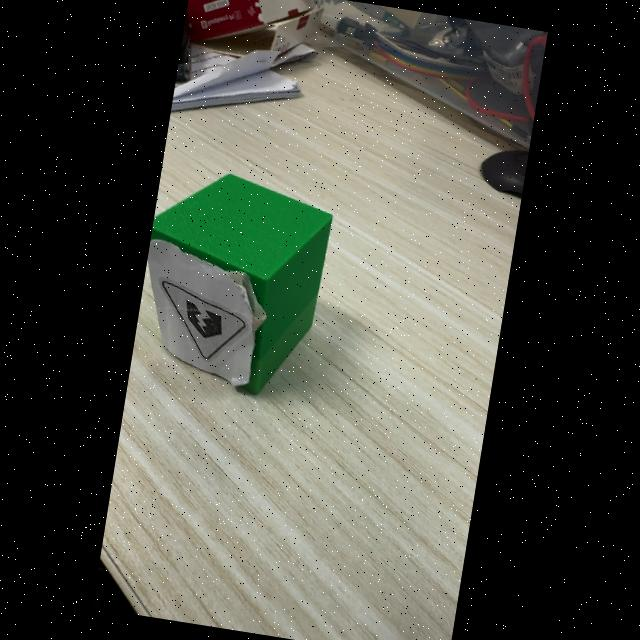Earthquake: (163, 281, 246, 360)
